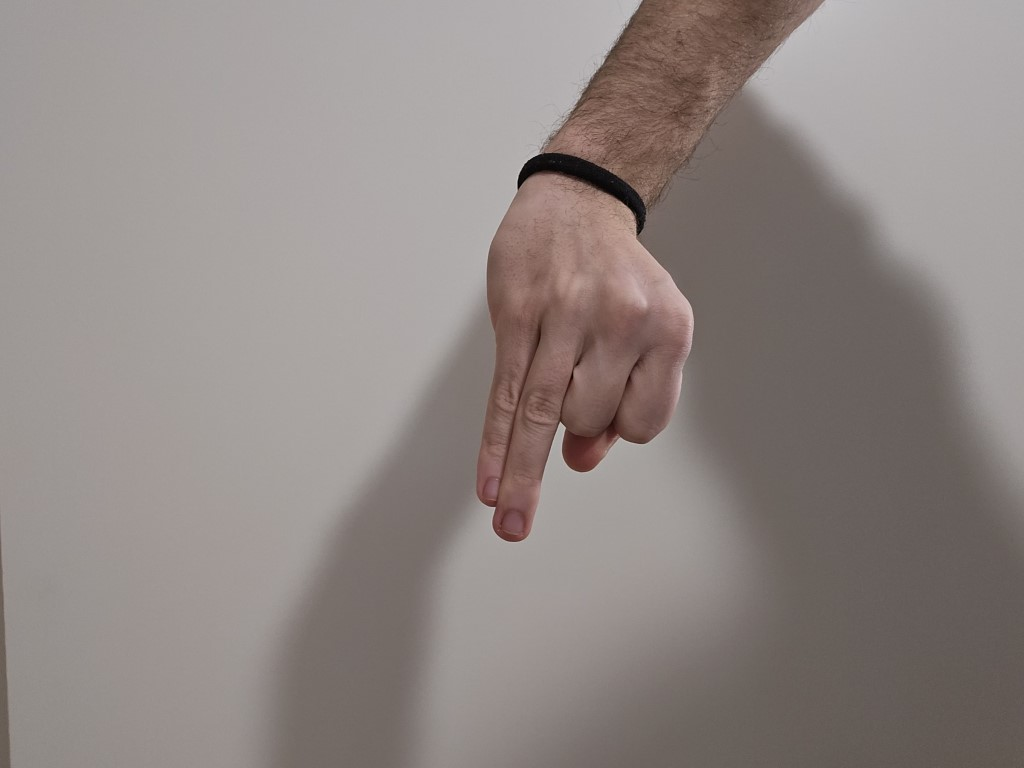n: (455, 183, 706, 570)
